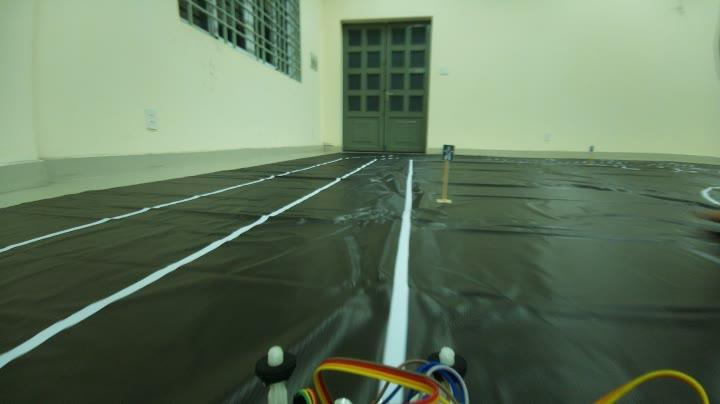highway_exit: (432, 142, 458, 166)
